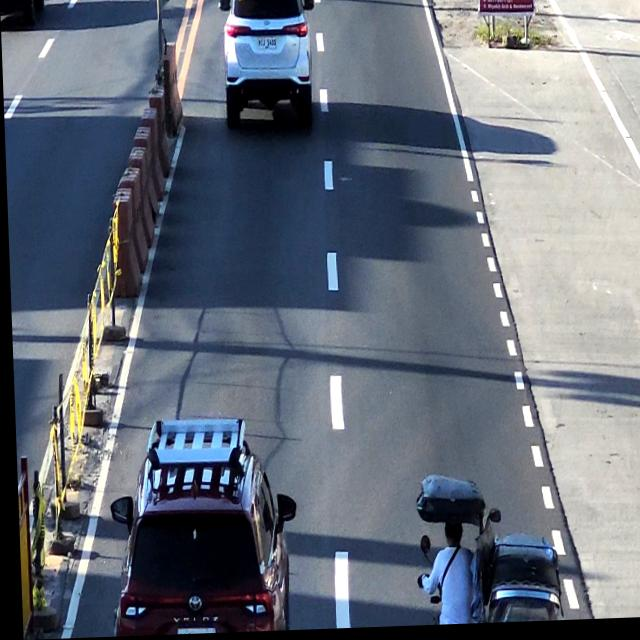Car: (105, 414, 284, 637), (216, 0, 314, 131)
License-Plate: (256, 38, 278, 53)
Tricycle: (413, 465, 560, 628)
